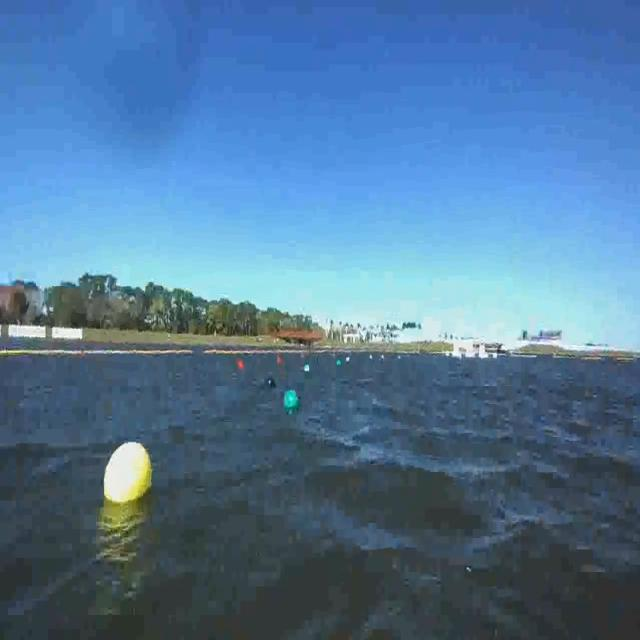black-buoy: (264, 374, 275, 389)
green-buoy: (284, 391, 298, 413)
red-buoy: (238, 359, 246, 370)
yellow-buoy: (104, 440, 154, 504)
